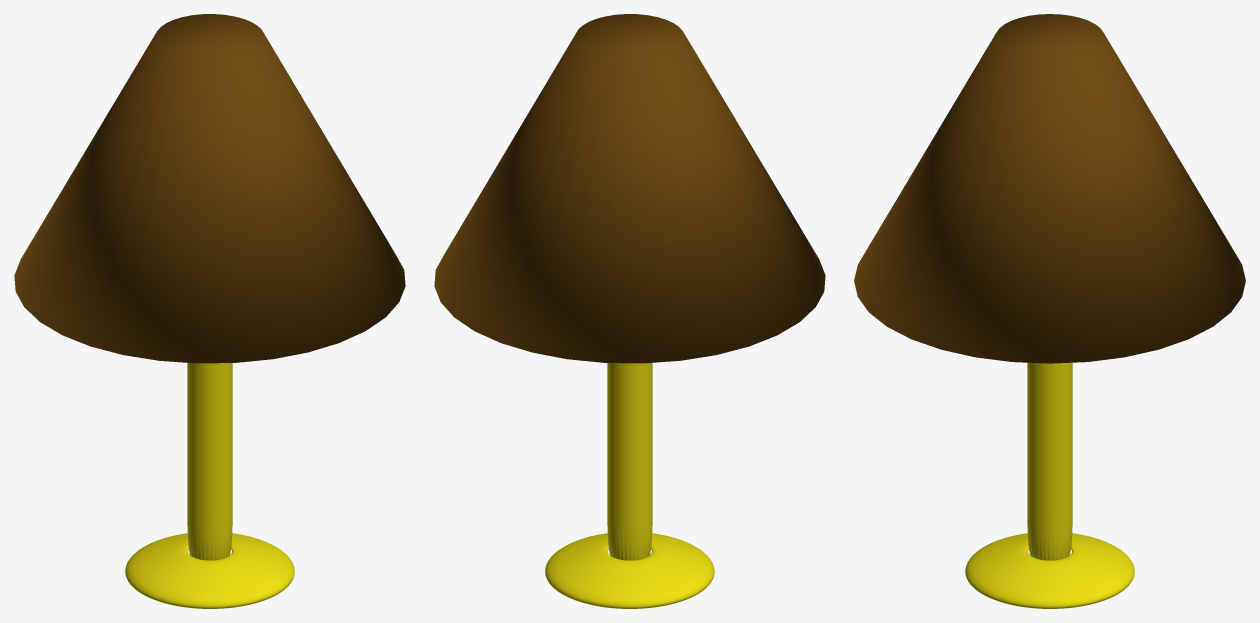
The model's file is Lamp2.fbx.
The picture shows the model from 3 angles, left to right: view 1: azimuth 30°, elevation 25°; view 2: azimuth 150°, elevation 25°; view 3: azimuth 270°, elevation 25°; orthographic projection.
Visible parts, largest first — view 1: Cone, Cylinder; view 2: Cone, Cylinder; view 3: Cone, Cylinder.
Boxes of the visible parts, left/top/right/bottom form: Cone: left=14, top=14, right=405, bottom=363; Cylinder: left=125, top=362, right=294, bottom=608; Cone: left=434, top=14, right=825, bottom=363; Cylinder: left=545, top=362, right=714, bottom=608; Cone: left=854, top=14, right=1245, bottom=363; Cylinder: left=965, top=362, right=1134, bottom=608.
Bounding box in the file's own units: 86 × 130 × 86.
